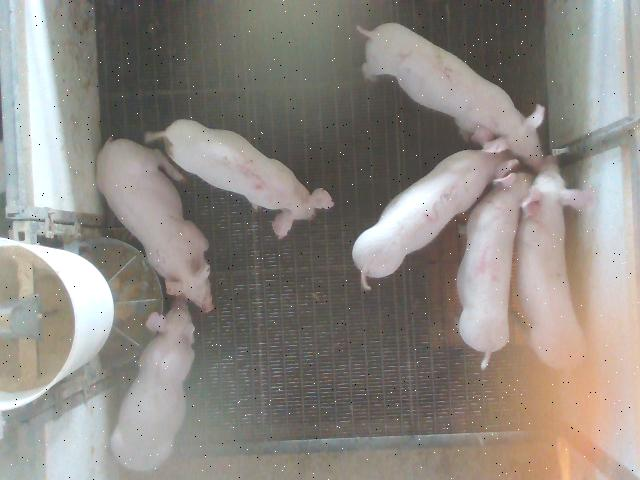pig-3: (352, 151, 516, 289)
pig-4: (458, 172, 532, 368)
pig-5: (145, 119, 334, 238)
